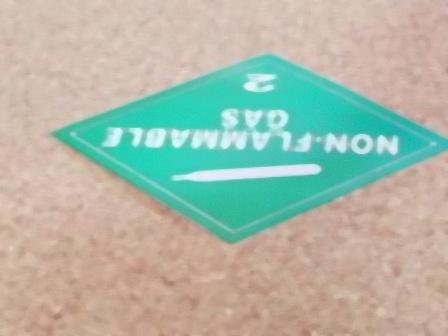non-flammable-gas: (43, 53, 448, 245)
